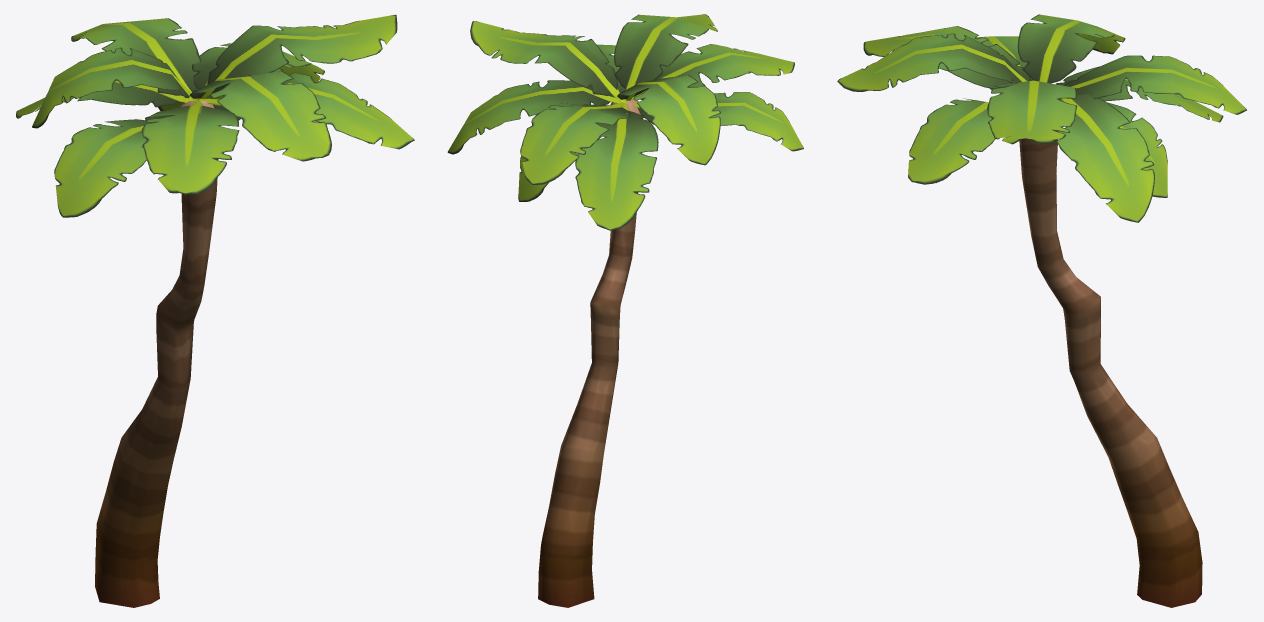
The model's file is PalmTree_1.fbx.
3 renders of one model, left to right at view 1: azimuth 30°, elevation 25°; view 2: azimuth 150°, elevation 25°; view 3: azimuth 270°, elevation 25°, orthographic. The views are drawn at different scales.
Visible parts, largest first — view 1: Palm_Tree_1; view 2: Palm_Tree_1; view 3: Palm_Tree_1.
Part boxes in pixels (left/top/right/bottom): Palm_Tree_1: left=16, top=14, right=414, bottom=607; Palm_Tree_1: left=447, top=14, right=803, bottom=607; Palm_Tree_1: left=837, top=14, right=1246, bottom=607.
Size of the model in its own units: 11.17 by 17.22 by 11.79.
